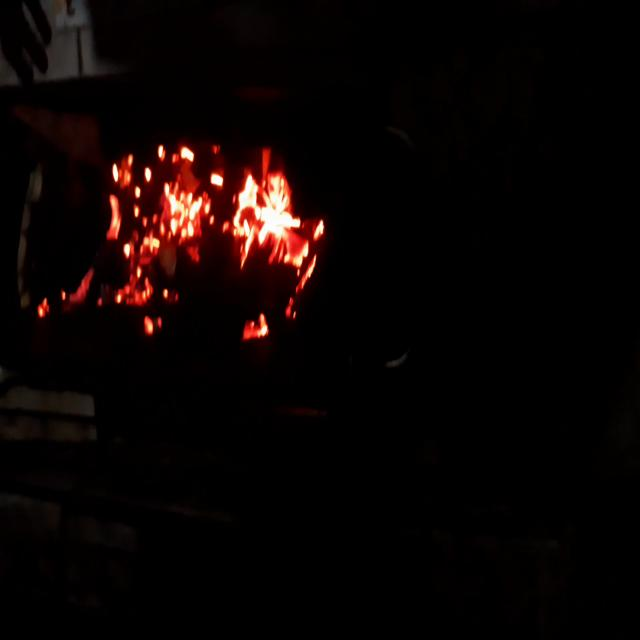Fire: (52, 125, 332, 356)
